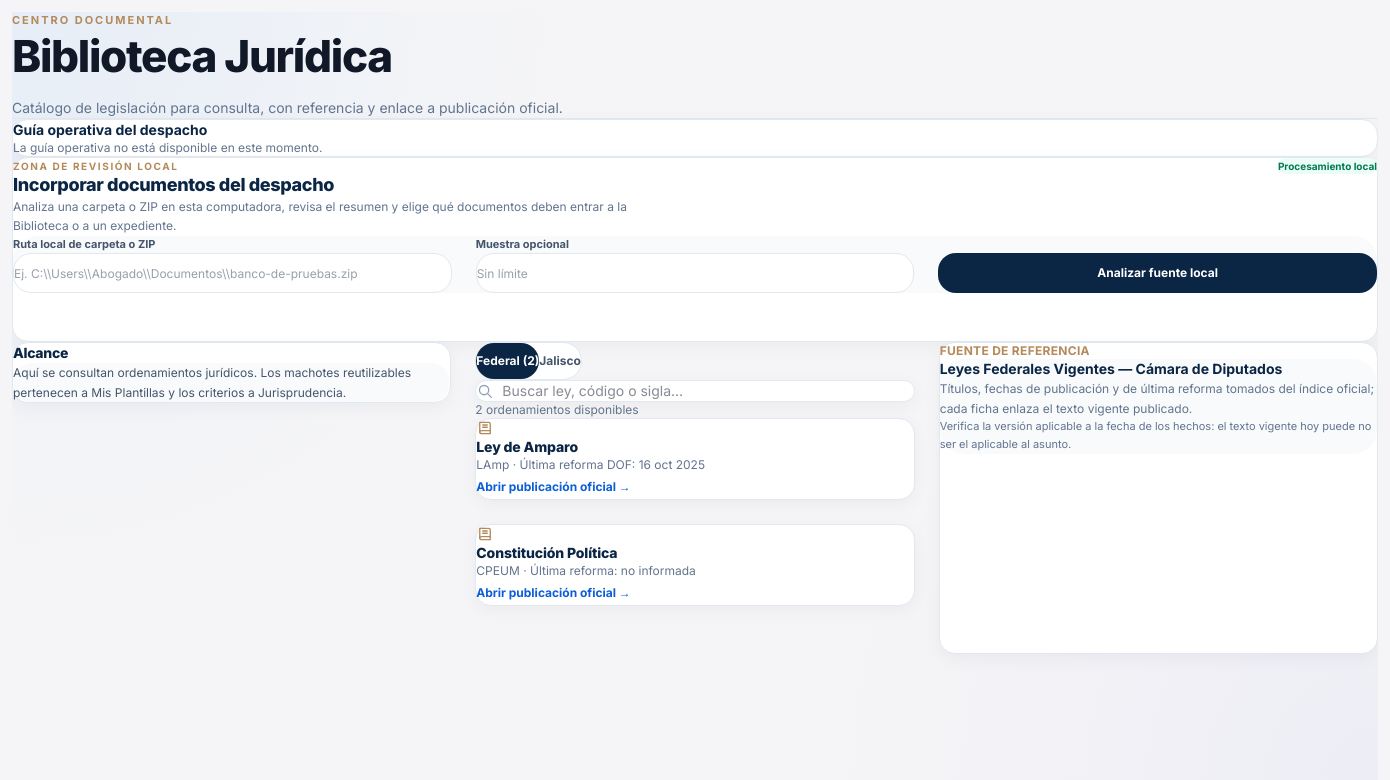
Test: jurisprudence, library and official alerts workspaces › filters the fetched local library and retains the official publication URL
This screenshot has width=1390, height=780.
Expected: the heading "Ley de Amparo" is shown, [476,438,578,456]
Step 1. Type "amparo" into the field with placeholder "Buscar ley, código o sigla…" → (708, 392), box [502,382,914,402]
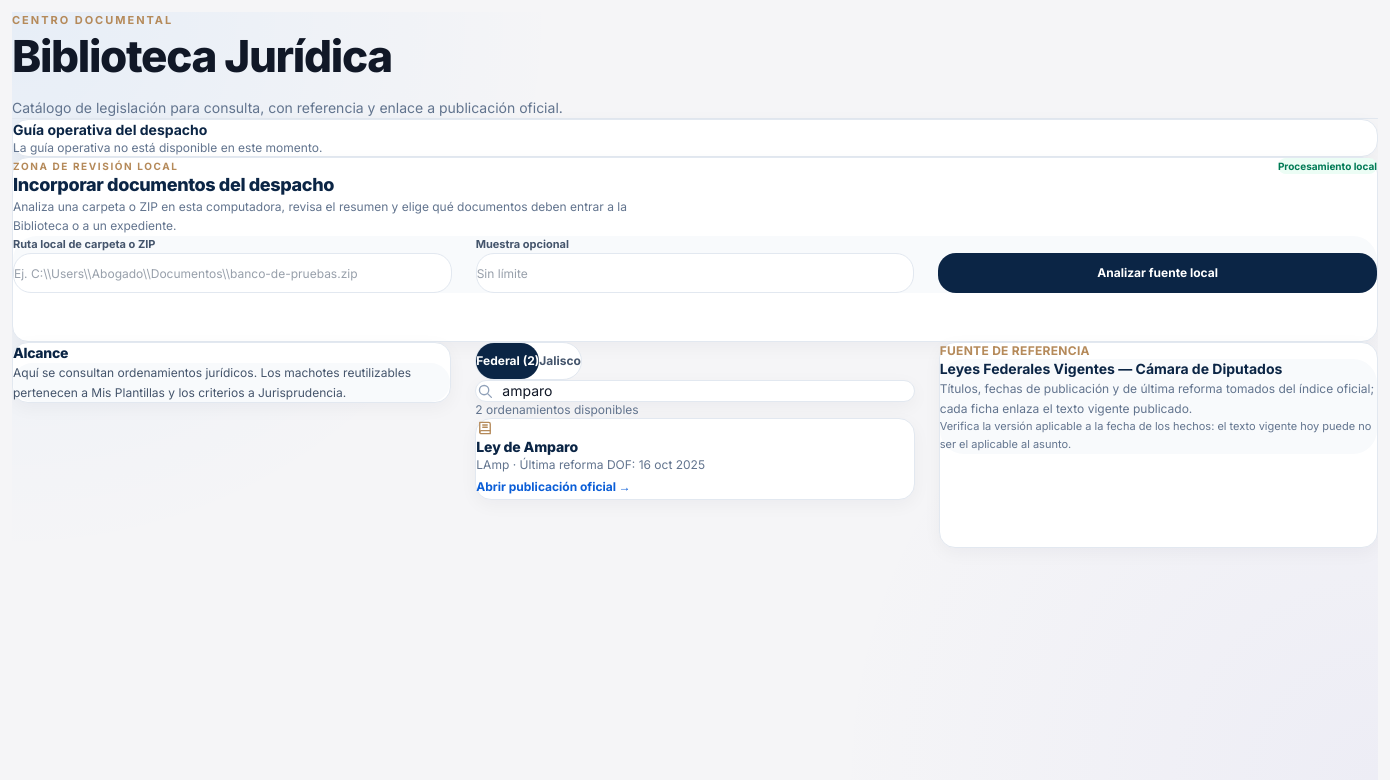
Expected: the heading "Ley de Amparo" is shown, [476,438,578,456]
Result: the heading "Constitución Política" is gone
